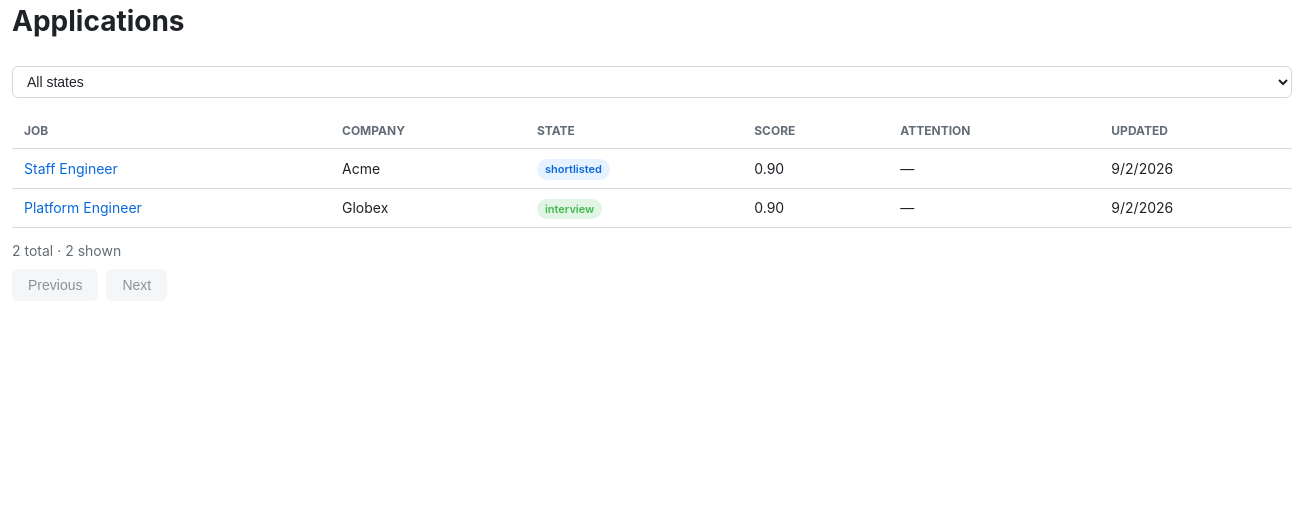
Test: Applications › opens a detail view for the selected application
Step 1. Click the link "Staff Engineer" → (71, 168), box [24, 160, 118, 177]
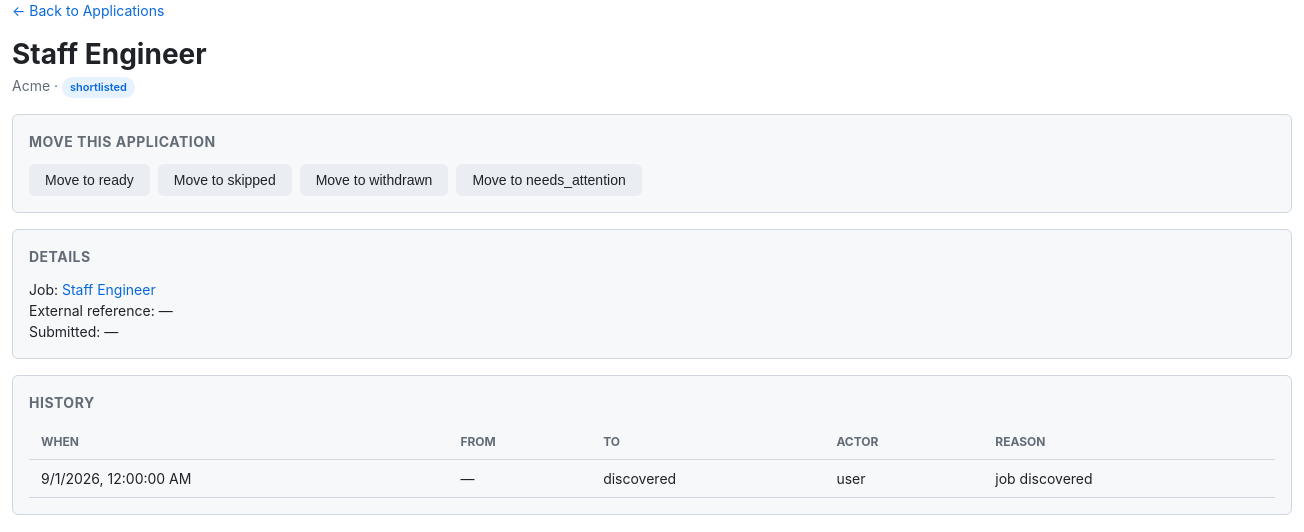
Result: the text "job discovered" is shown at [983, 459, 1275, 497]
